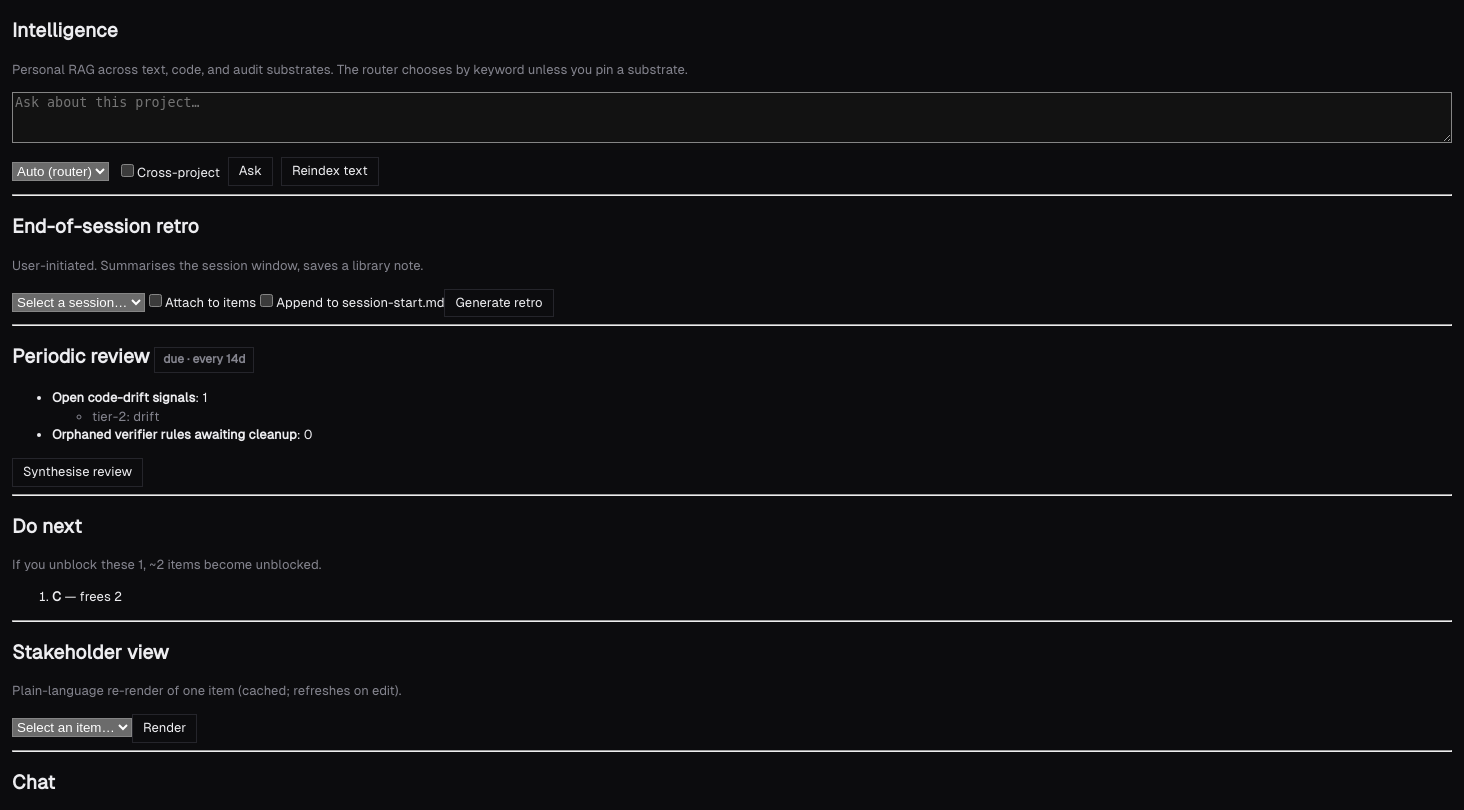
Test: Phase 14 — Intelligence (RAG) surface › generates an end-of-session retro with attach + append flags
Select "Sprint 9" in the dropdown with test id "retro-session": (78, 302) [12, 293, 145, 312]
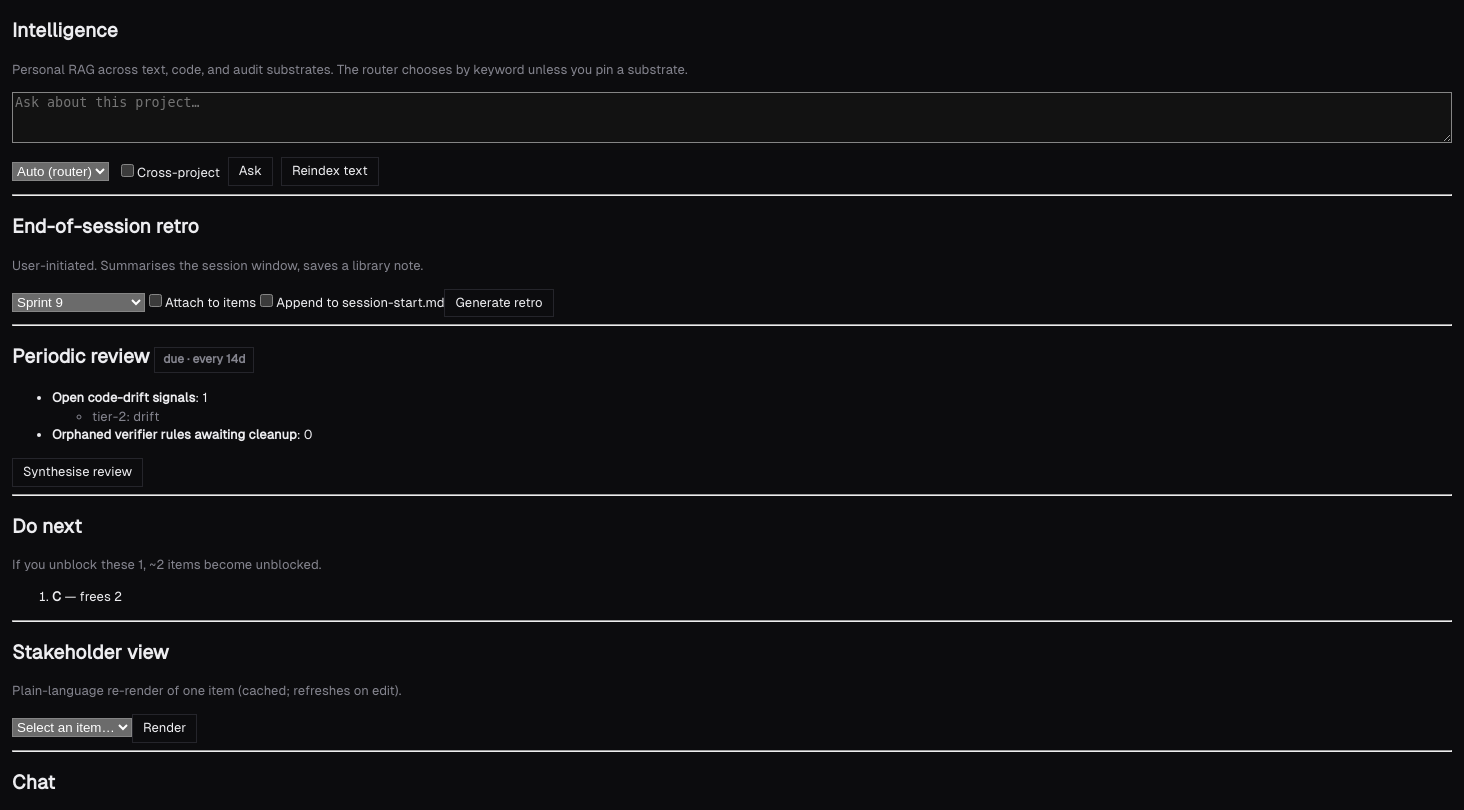
Click the checkbox with test id "retro-attach": (156, 300) [149, 294, 162, 307]
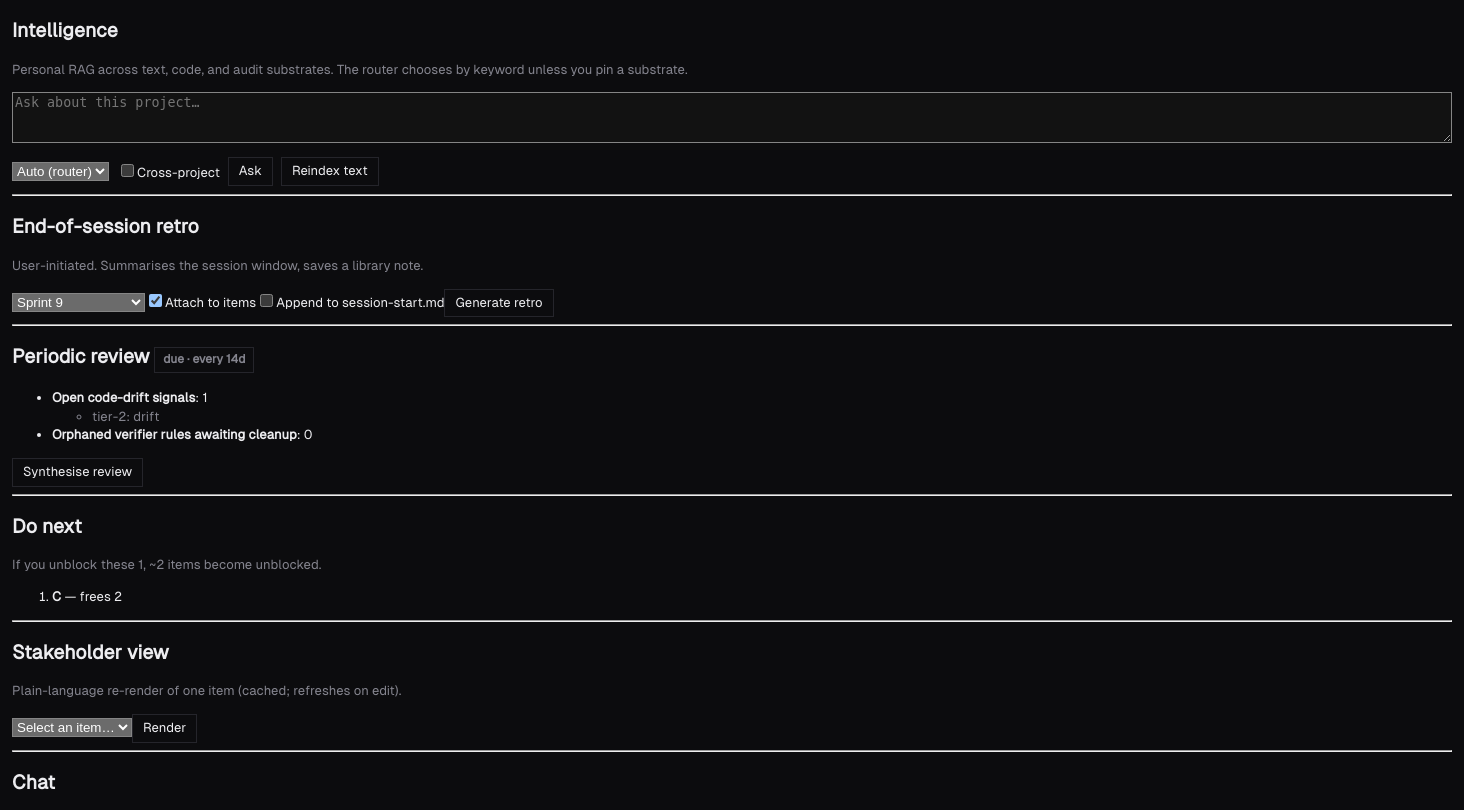
Click the checkbox with test id "retro-append": (267, 300) [260, 294, 273, 307]
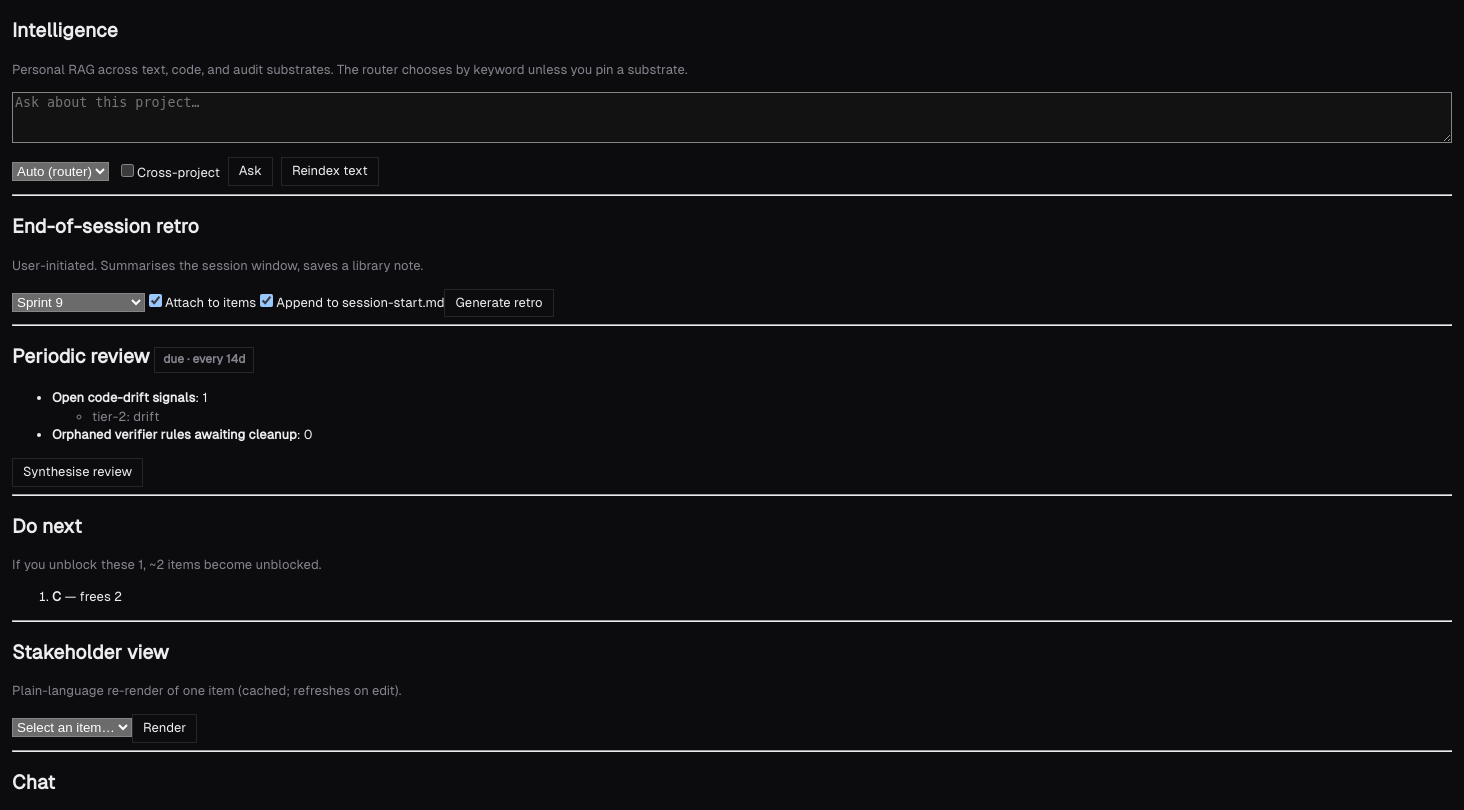
Click the button with test id "retro-run": (499, 303) [444, 289, 554, 317]
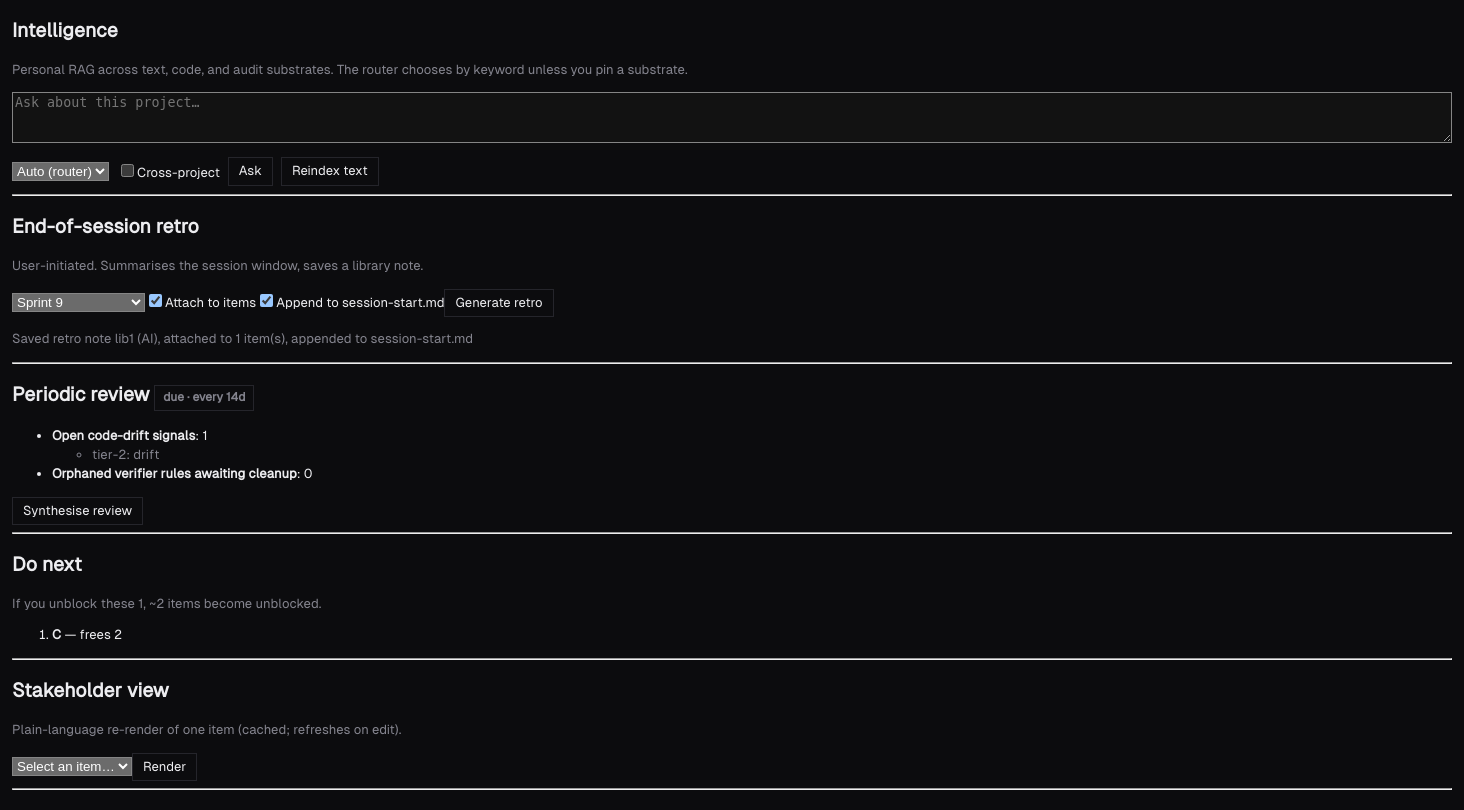
Expected: the text with test id "retro-msg" shows "appended to session-start.md", [12, 331, 473, 346]
